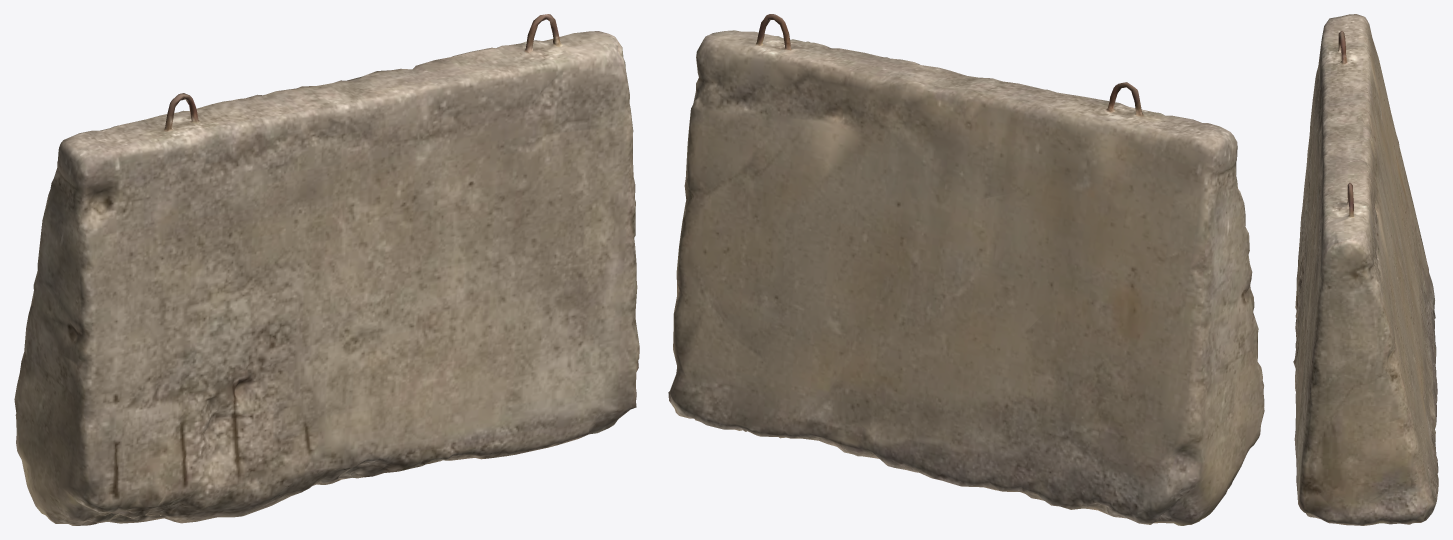
Rendered from prop-concreteblock.glb.
3 renders of one model, left to right at view 1: azimuth 30°, elevation 25°; view 2: azimuth 150°, elevation 25°; view 3: azimuth 270°, elevation 25°, orthographic. The views are drawn at different scales.
Parts seen in each view (by area): view 1: prop-concreteblock; view 2: prop-concreteblock; view 3: prop-concreteblock.
Boxes of the visible parts, x1,y1,x2,y2 form: prop-concreteblock: [14, 14, 639, 525]; prop-concreteblock: [668, 14, 1264, 525]; prop-concreteblock: [1293, 14, 1438, 525].
Bounding box in the file's own units: 1.56 × 1.11 × 0.4421.
1 material, 1 textured.
